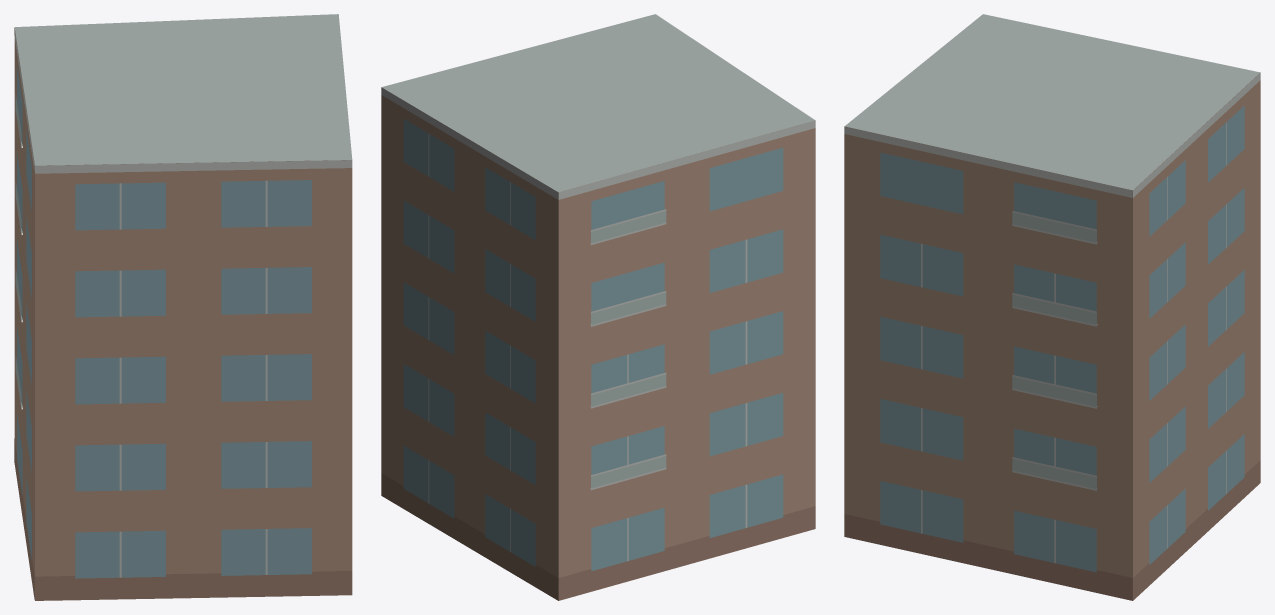
File: survey-upis-32895139.glb
3 views of the same model, side by side, from view 1: azimuth 30°, elevation 25°; view 2: azimuth 150°, elevation 25°; view 3: azimuth 270°, elevation 25° (orthographic). The views are drawn at different scales.
Visible parts, largest first — view 1: survey-upis-32895139.tmp; view 2: survey-upis-32895139.tmp; view 3: survey-upis-32895139.tmp.
Boxes of the visible parts, x1=… form: survey-upis-32895139.tmp: x1=14, y1=14, x2=352, y2=600; survey-upis-32895139.tmp: x1=381, y1=14, x2=815, y2=600; survey-upis-32895139.tmp: x1=844, y1=14, x2=1260, y2=600.
Size of the model in its own units: 12.08 by 13.1 by 12.04.
